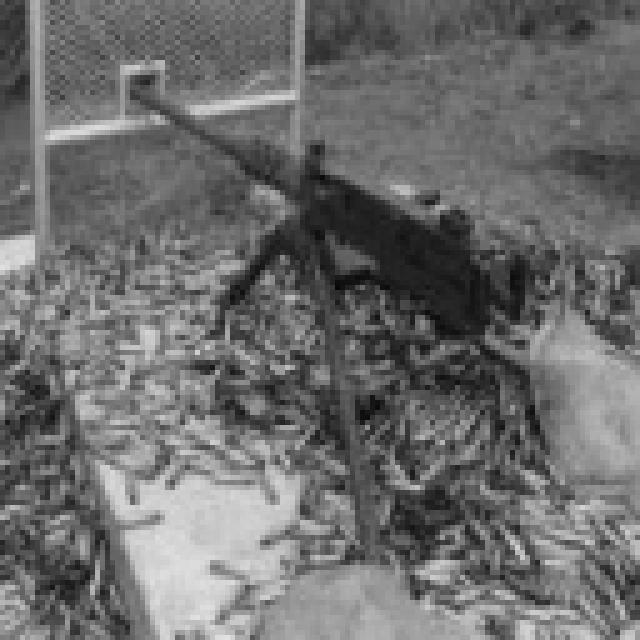Rifle: (49, 33, 577, 556)
